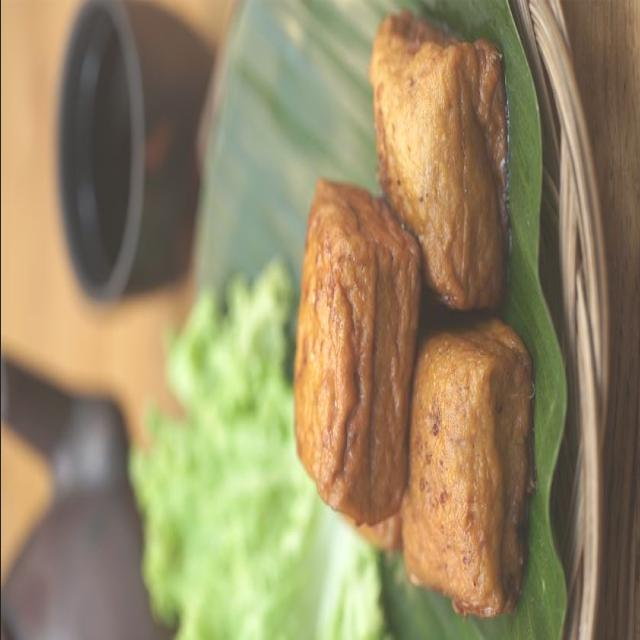tahu goreng: (385, 297, 537, 618), (293, 178, 426, 543), (369, 11, 509, 313)
